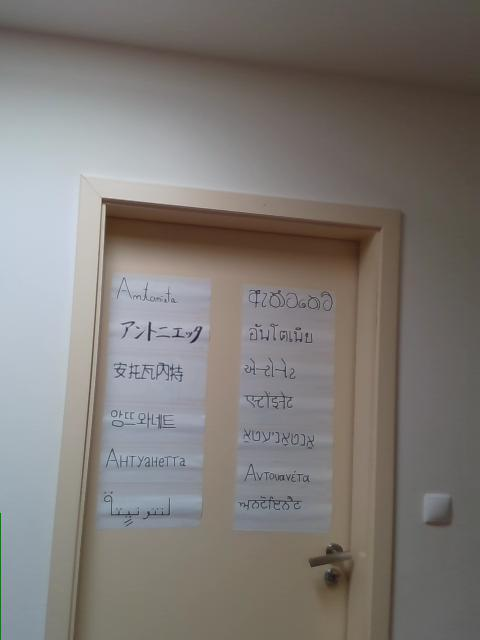door: (74, 216, 360, 639)
